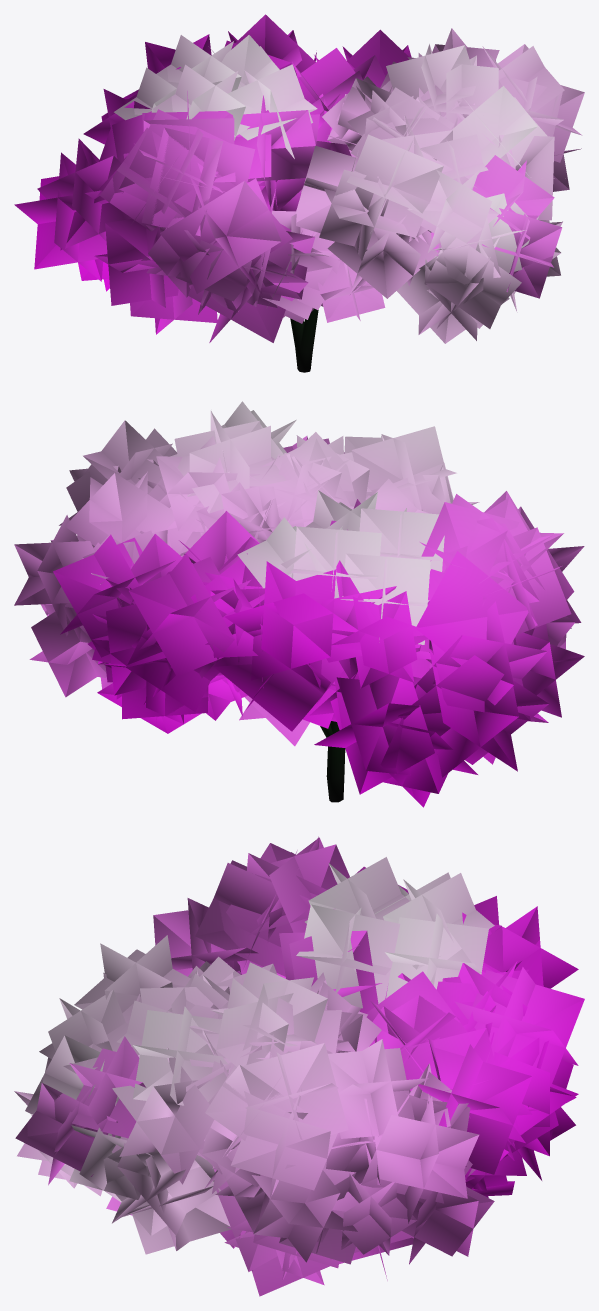
File: TSI_Amberleaf_Shrub_01A.fbx
The picture shows the model from 3 angles, top to bottom: view 1: azimuth 30°, elevation 25°; view 2: azimuth 150°, elevation 25°; view 3: azimuth 270°, elevation 25°; orthographic projection. The views are drawn at different scales.
Visible parts, largest first — view 1: TSI_Amberleaf_Shrub_01A_LOD0; view 2: TSI_Amberleaf_Shrub_01A_LOD0; view 3: TSI_Amberleaf_Shrub_01A_LOD0.
Boxes of the visible parts, x1,y1,x2,y2 form: TSI_Amberleaf_Shrub_01A_LOD0: (14, 14, 584, 372); TSI_Amberleaf_Shrub_01A_LOD0: (14, 401, 584, 807); TSI_Amberleaf_Shrub_01A_LOD0: (14, 836, 584, 1296).
Bounding box in the file's own units: 651 × 386 × 555.
